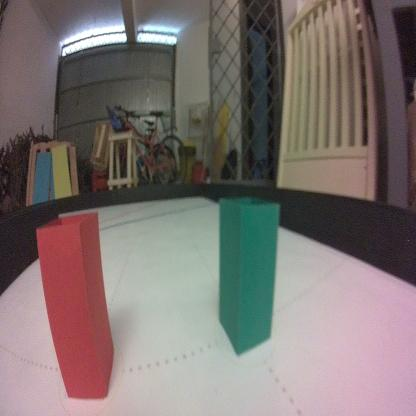green: (218, 196, 280, 356)
red: (36, 214, 115, 402)
